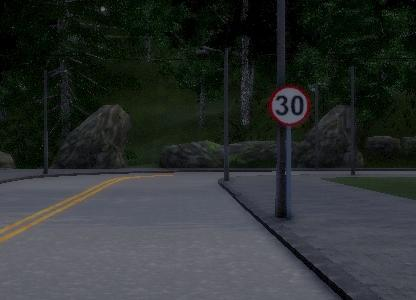Speed_30: (266, 82, 311, 125)
